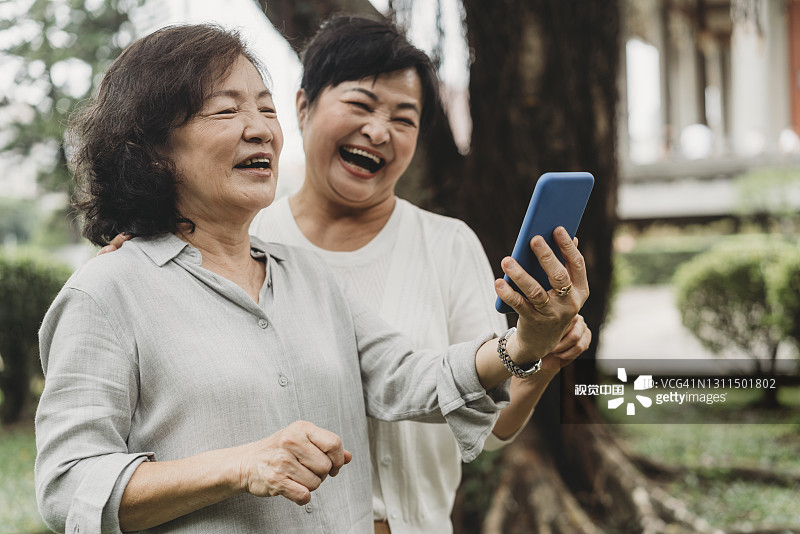no-phone: (219, 410, 375, 526)
reading: (453, 173, 607, 360)
